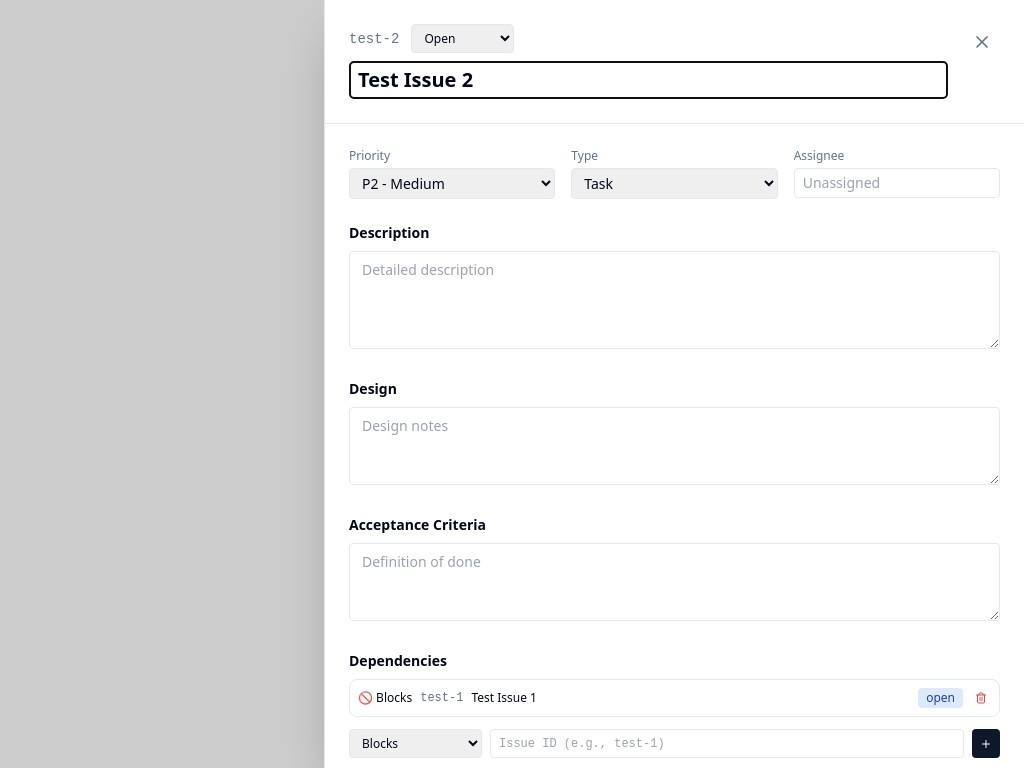
IssueSidePanel - Dependency Management › should show error when adding duplicate dependency
# Try to add an existing dependency
Type "test-1" into the field with placeholder "Issue ID (e.g., test-1)" at (727, 744), box [490,729,964,758]
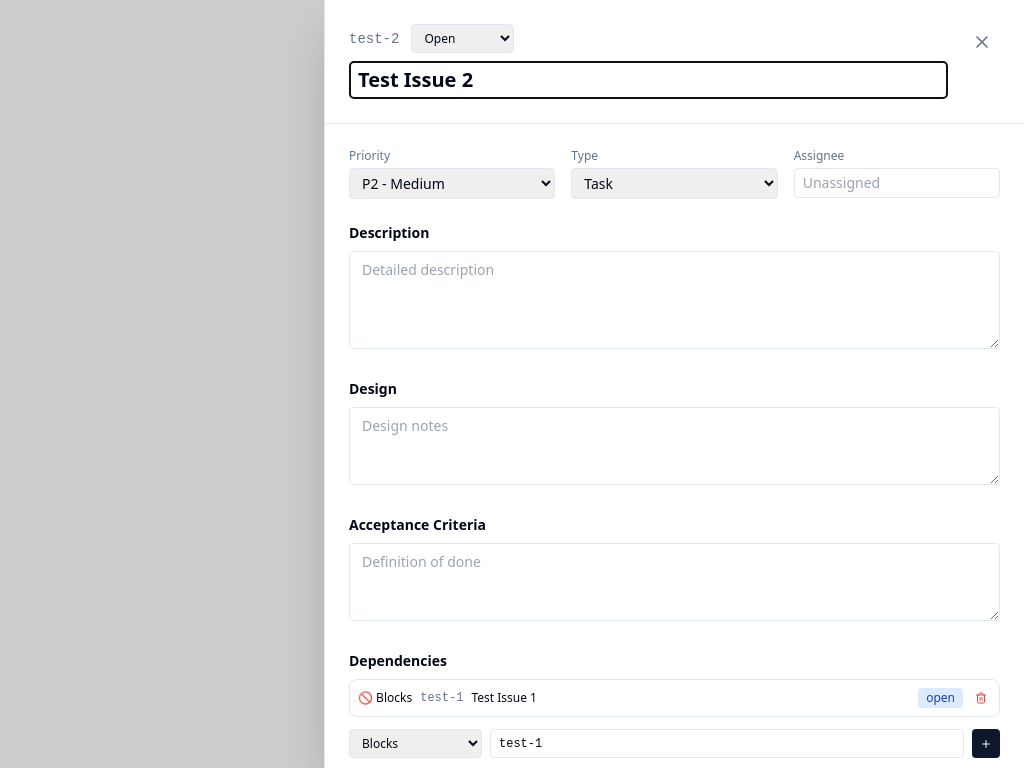
Click the button titled "Add dependency" at (986, 744), box [972,729,1000,758]
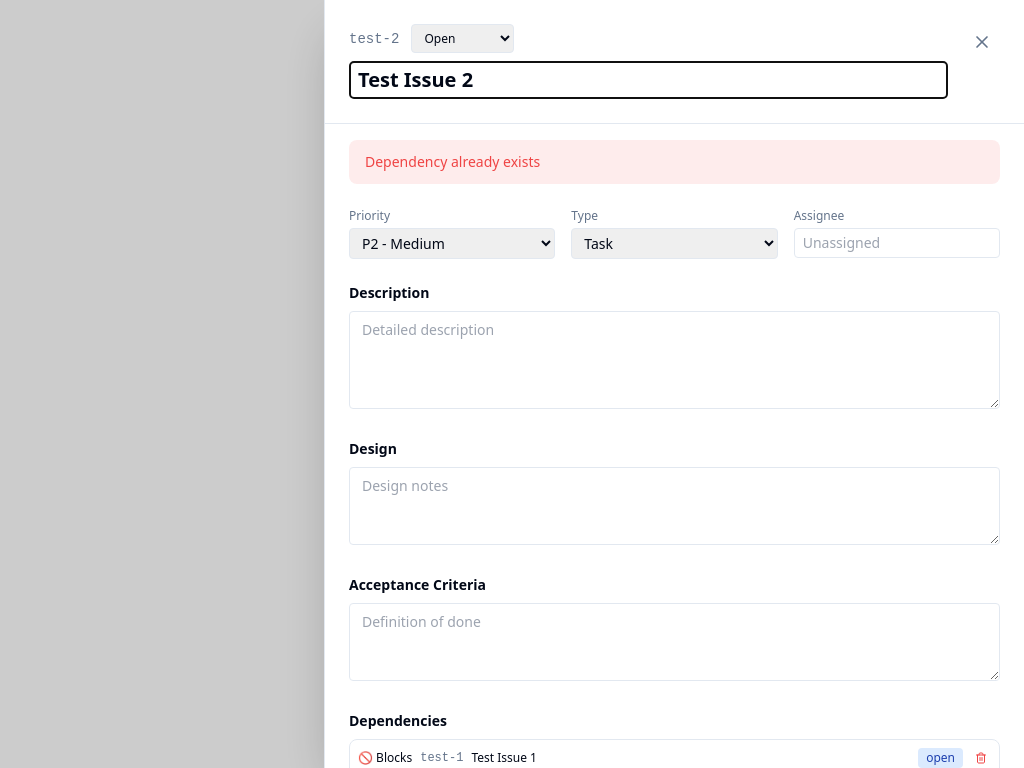
expect the text "Dependency already exists" is shown: met, box [349,140,1000,184]
